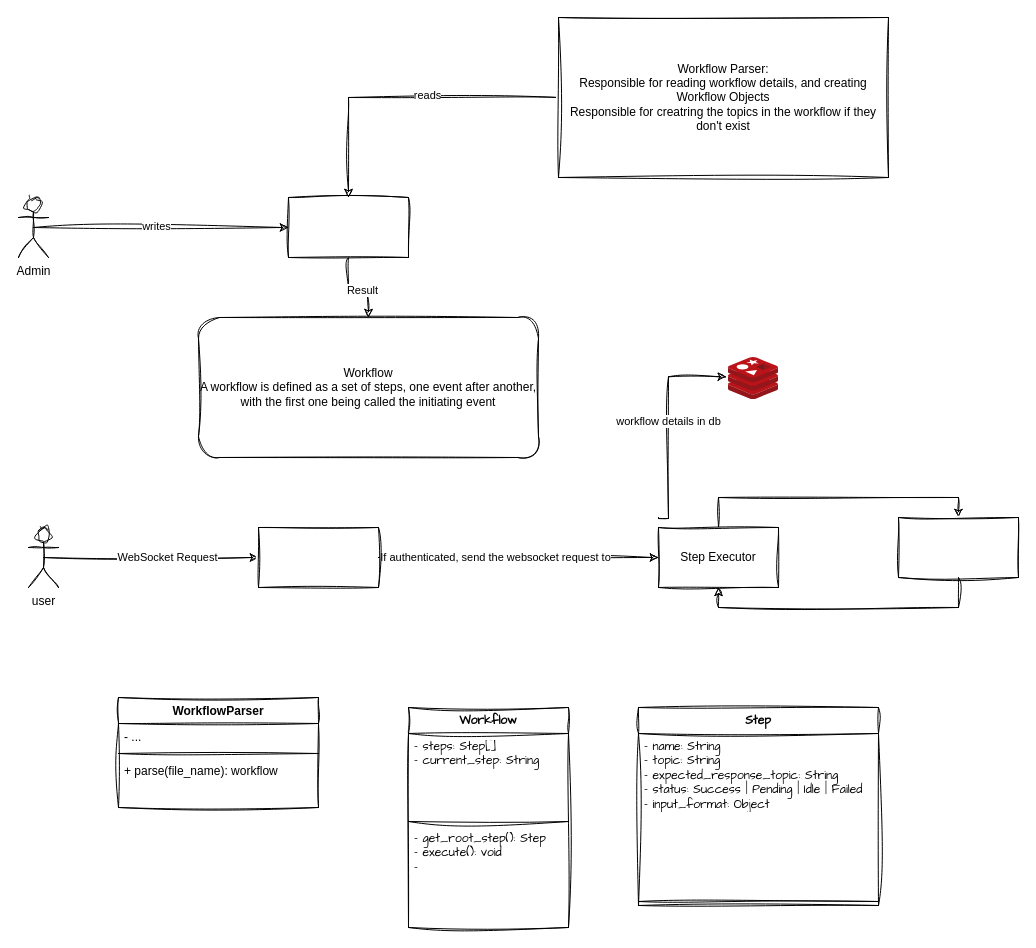
This 1036x948 diagram has some shape labels left out. Here are the shapes that lost their labels. From the top down, the centre of each, then its label:
point (348, 227): workflow.yml
point (318, 557): API Gateway: Validate user authentication,
point (958, 547): Event Processor
